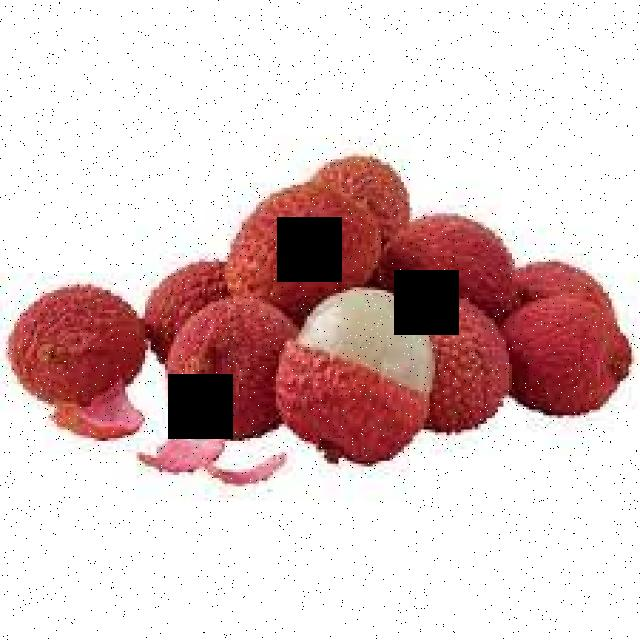lychee: (1, 168, 622, 456)
